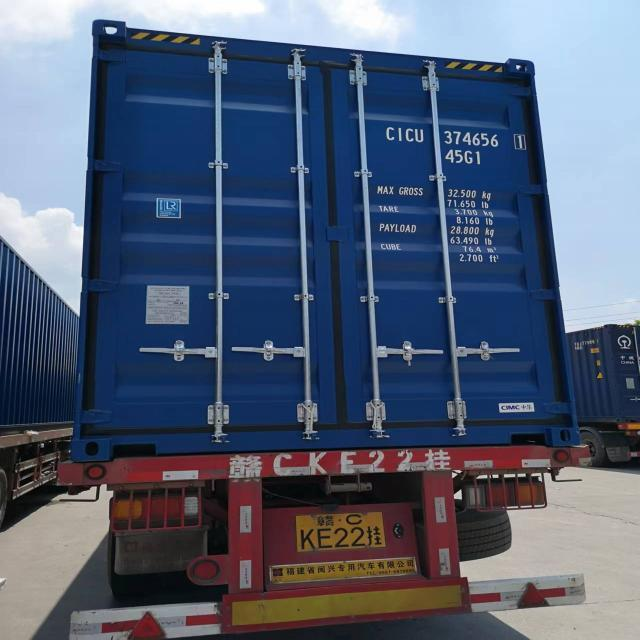ISO: (448, 149, 484, 166)
container_number: (387, 128, 527, 149)
